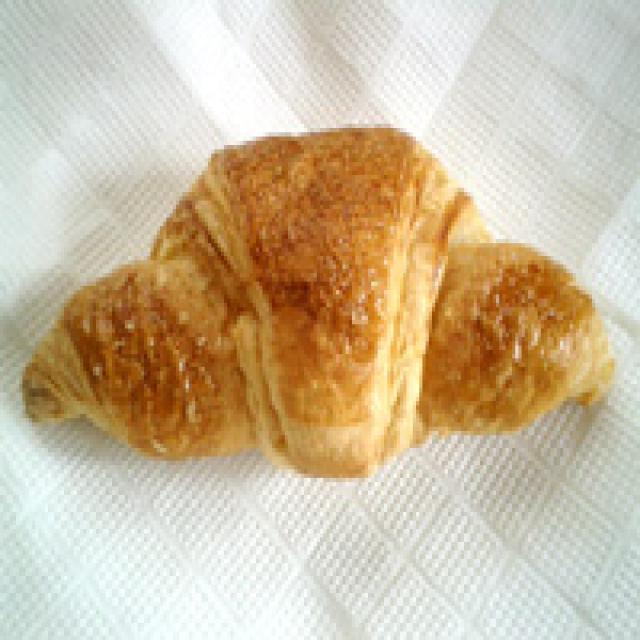Croissant: (21, 113, 624, 481)
